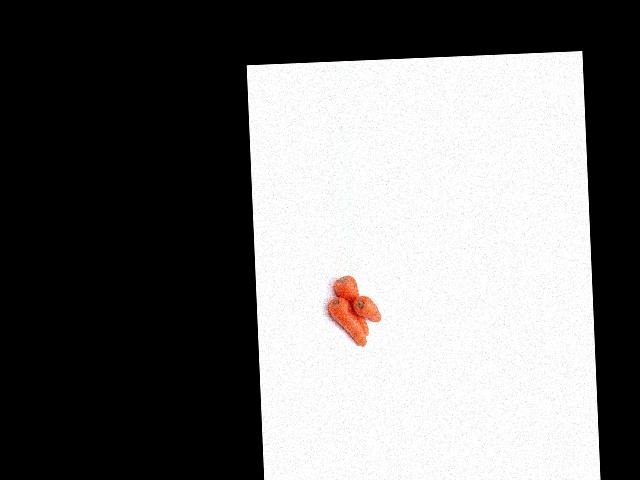carrot: (331, 275, 368, 338)
